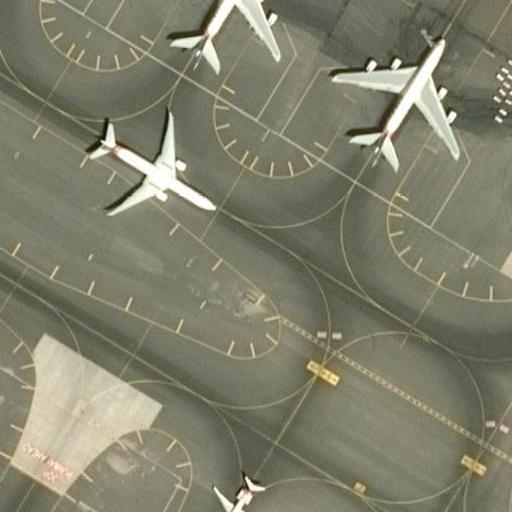Aircraft: (328, 24, 467, 173), (81, 96, 215, 222), (144, 0, 281, 74), (207, 464, 274, 512)
